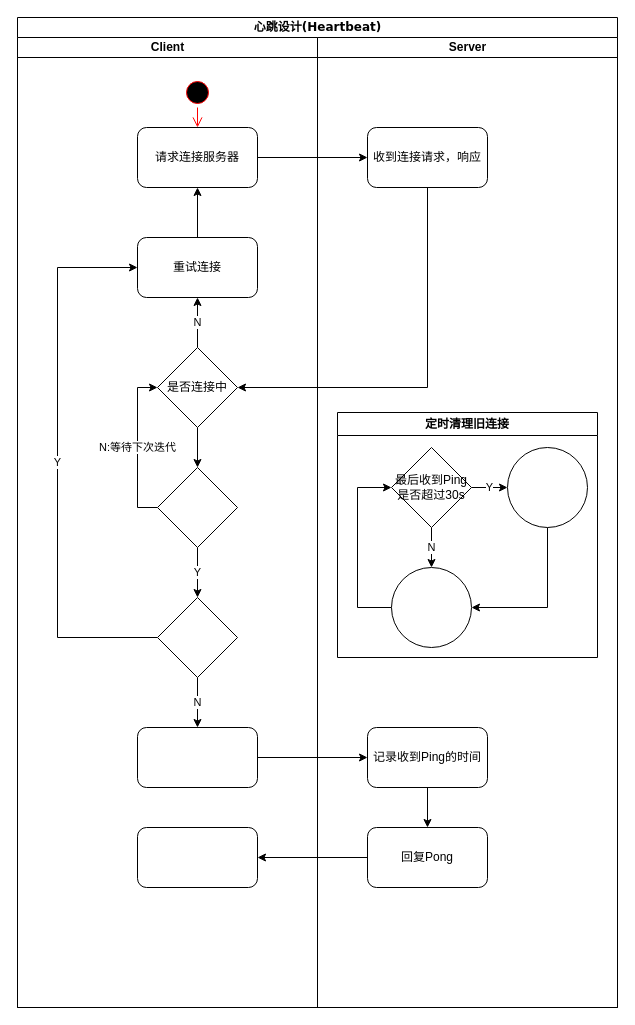
Some shapes in this 635 by 1025 pixel diagram are drawn without their labels. The shapes that lost their labels are listed below. From the top down, each one's centre as x and y in pixels, then its label:
[197,507]: 是否距离最后一次发送Ping超过5s
[547,487]: 清理链接
[431,607]: 等待下次迭代
[197,637]: 是否有未收到Pong的标记
[197,757]: 发送Ping并标记未收到Pong
[197,857]: 移除未收到Pong的标记，并统计延迟
